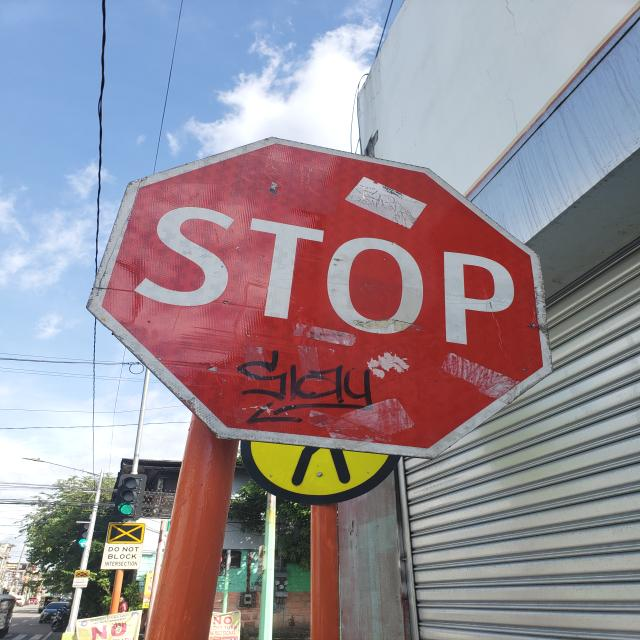stop-sign: (84, 133, 554, 461)
